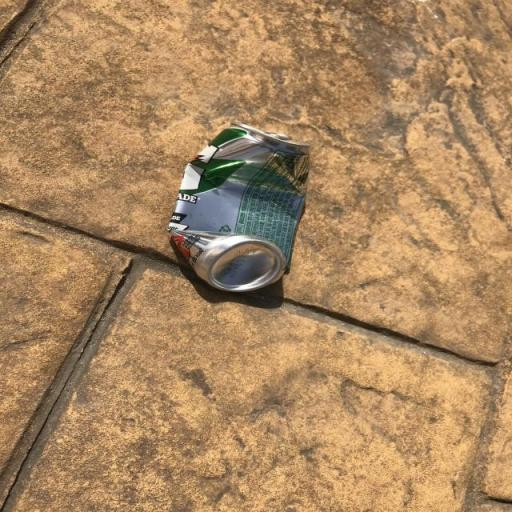metal: (151, 108, 318, 302)
